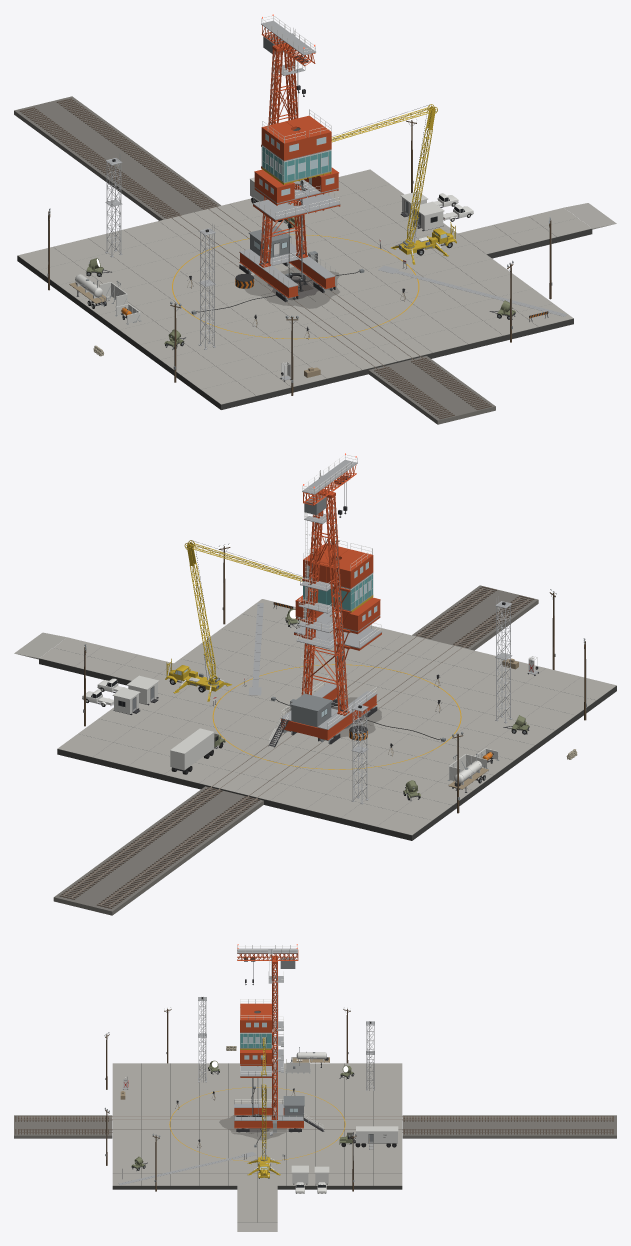
Rendered from pad.lod2.glb.
3 views of the same model, one above another, from view 1: azimuth 30°, elevation 25°; view 2: azimuth 150°, elevation 25°; view 3: azimuth 270°, elevation 25° (orthographic). The views are drawn at different scales.
Visible parts, largest first — view 1: Hardstand_Concrete, Hardstand_Ballast, Hardstand_Tie, ServiceStructure_Red, Hardstand_Joint, Hardstand_Rail, ServiceStructure_Deck, ServiceStructure_Platform4_Left_Red, Hardstand_Stain, CameraTowers_Tower1_Galv, CameraTowers_Tower2_Galv, CherryPicker_Mast_Yellow (+12 smaller); view 2: Hardstand_Concrete, Hardstand_Ballast, ServiceStructure_Red, Hardstand_Tie, Hardstand_Joint, Hardstand_Rail, ServiceStructure_Deck, CameraTowers_Tower1_Galv, ServiceStructure_Grey, GroundEquipment_Trailer_TrailerVan, ServiceStructure_White, ServiceStructure_Platform4_Left_Red (+10 smaller); view 3: Hardstand_Concrete, Hardstand_Ballast, Hardstand_Rail, ServiceStructure_Red, Hardstand_Tie, Hardstand_Joint, ServiceStructure_Deck, GroundEquipment_Trailer_TrailerVan, ServiceStructure_Grey, ServiceStructure_White, ServiceStructure_Platform4_Right_Red, Hardstand_Stain (+5 smaller).
Part boxes in pixels (x1,y1,x2,y2): Hardstand_Concrete: (18,169,591,404); Hardstand_Ballast: (14,96,495,424); Hardstand_Tie: (19,98,491,419); ServiceStructure_Red: (239,25,335,298); Hardstand_Joint: (17,213,592,409); Hardstand_Rail: (23,99,486,416); ServiceStructure_Deck: (239,20,335,287); ServiceStructure_Platform4_Left_Red: (261,121,307,160); Hardstand_Stain: (244,266,339,308); CameraTowers_Tower1_Galv: (199,228,215,349); CameraTowers_Tower2_Galv: (105,158,122,257); CherryPicker_Mast_Yellow: (407,104,437,240); Hardstand_Concrete: (39,599,616,835); Hardstand_Ballast: (53,585,538,915); ServiceStructure_Red: (281,464,377,740); Hardstand_Tie: (59,586,534,908); Hardstand_Joint: (39,638,616,840); Hardstand_Rail: (63,587,528,907); ServiceStructure_Deck: (280,460,376,729); CameraTowers_Tower1_Galv: (495,601,512,723); ServiceStructure_Grey: (289,494,369,738); GroundEquipment_Trailer_TrailerVan: (170,728,214,770); ServiceStructure_White: (269,454,376,745); ServiceStructure_Platform4_Left_Red: (327,549,373,588); Hardstand_Concrete: (112,1063,402,1222); Hardstand_Ballast: (14,1115,616,1138); Hardstand_Rail: (18,1116,612,1132); ServiceStructure_Red: (234,950,303,1128); Hardstand_Tie: (15,1116,613,1134); Hardstand_Joint: (112,1063,402,1222); ServiceStructure_Deck: (234,948,303,1135); GroundEquipment_Trailer_TrailerVan: (356,1126,398,1143); ServiceStructure_Grey: (273,957,304,1118); ServiceStructure_White: (234,945,323,1131); ServiceStructure_Platform4_Right_Red: (240,1012,271,1032); Hardstand_Stain: (219,1115,287,1140).
Size of the model in its own units: 90.64 by 42.38 by 127.
